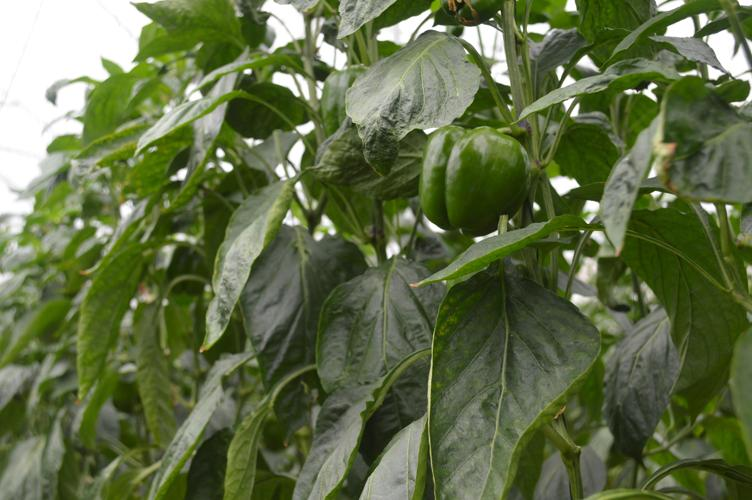BellPepper: (416, 128, 530, 238)
